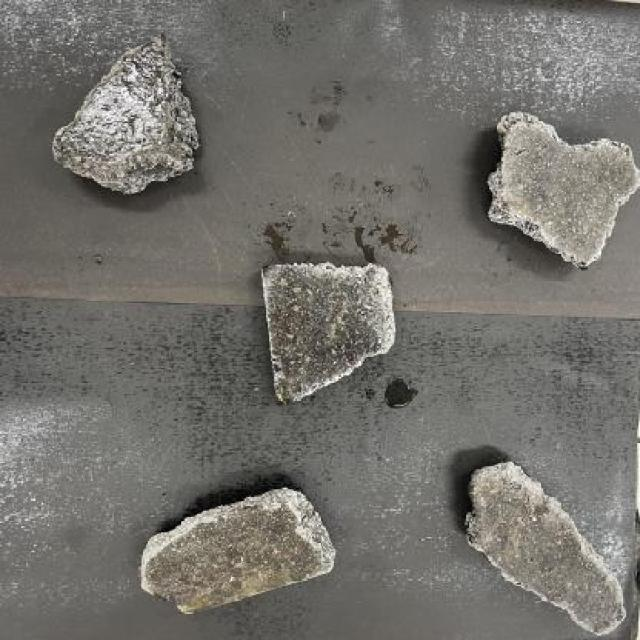Road Debris: (482, 482, 618, 626), (156, 504, 316, 604), (68, 51, 178, 188), (504, 130, 620, 252), (276, 264, 372, 382)
